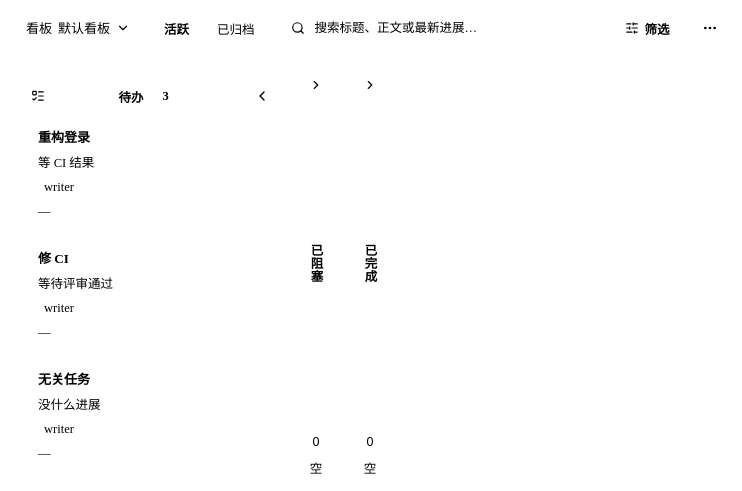
Test: KanbanRoute 精简后的入口 › 主界面只留高频动作，低频动作在「更多」菜单里
Expected: the field named "搜索任务" is shown, x1=313 y1=20 x2=591 y2=36
Expected: the button with aria-label "选择看板" is shown, x1=16 y1=12 x2=138 y2=44
Click the button named "更多操作".
click(710, 28)  # box x1=694 y1=12 x2=726 y2=44
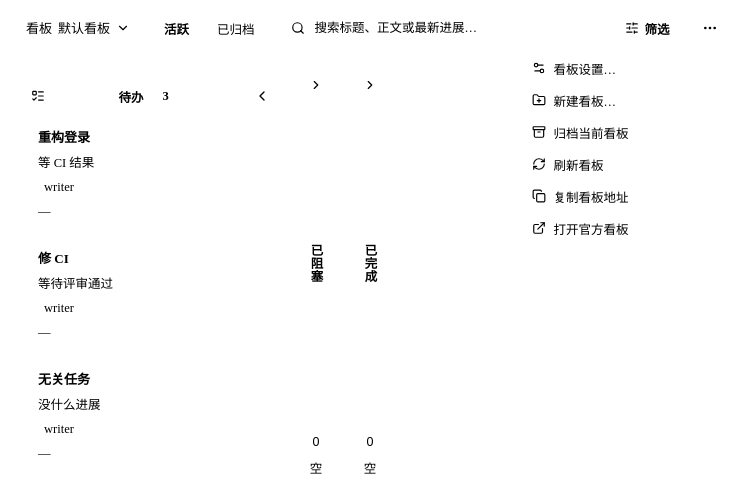
Expected: the menu item "看板设置…" is shown, x1=522 y1=52 x2=722 y2=84
Expected: the menu item "归档当前看板" is shown, x1=522 y1=116 x2=722 y2=148
Expected: the menu item "复制看板地址" is shown, x1=522 y1=180 x2=722 y2=212
